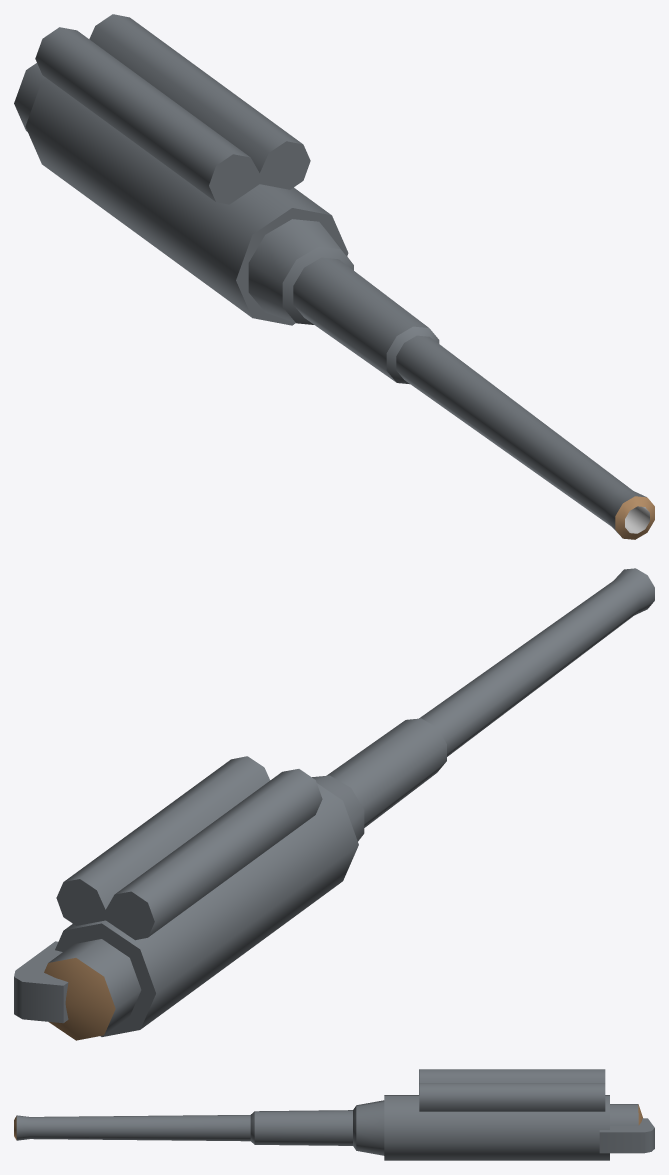
File: Hood_gun_140_barrel_1_001_0_Hood_gun_140_barrel_1_001_0.obj
3 renders of one model, top to bottom at view 1: azimuth 30°, elevation 25°; view 2: azimuth 150°, elevation 25°; view 3: azimuth 270°, elevation 25°, orthographic. The views are drawn at different scales.
Parts seen in each view (by area): view 1: Hood_gun_140_barrel_1_001_0_Hood_gun_140_barrel_1_001_0; view 2: Hood_gun_140_barrel_1_001_0_Hood_gun_140_barrel_1_001_0; view 3: Hood_gun_140_barrel_1_001_0_Hood_gun_140_barrel_1_001_0.
Boxes of the visible parts, box(x1,y1,x2,y2) form: Hood_gun_140_barrel_1_001_0_Hood_gun_140_barrel_1_001_0: box(14, 14, 654, 539); Hood_gun_140_barrel_1_001_0_Hood_gun_140_barrel_1_001_0: box(14, 568, 654, 1040); Hood_gun_140_barrel_1_001_0_Hood_gun_140_barrel_1_001_0: box(14, 1069, 654, 1160).
Bounding box in the file's own units: 0.7944 × 1.03 × 7.22.
